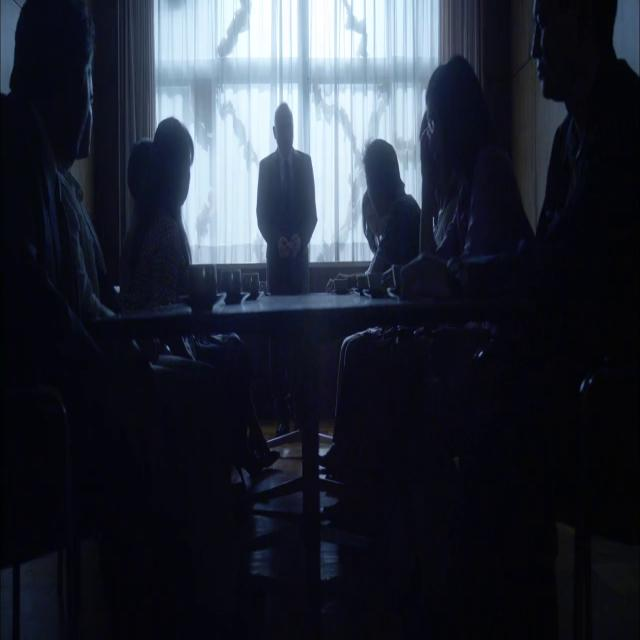People: (518, 0, 640, 553), (13, 0, 137, 462), (420, 56, 508, 416), (240, 99, 334, 319), (111, 96, 186, 348), (358, 97, 420, 285), (151, 111, 200, 348)
Table: (197, 233, 445, 502)
